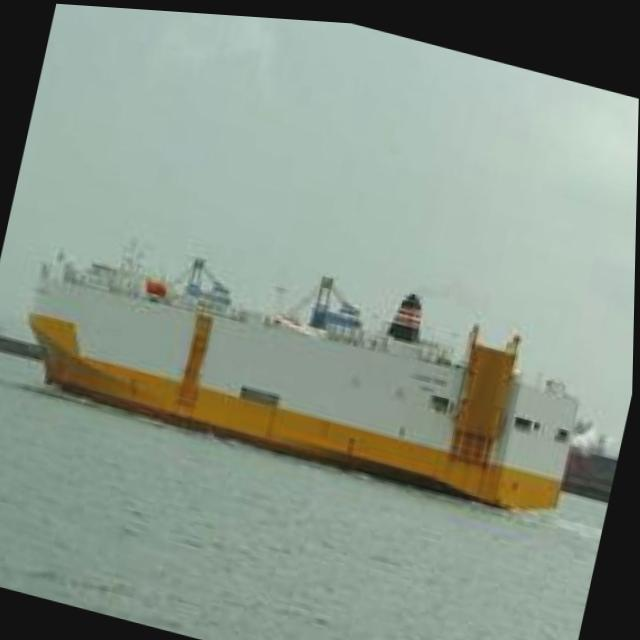ship2: (27, 254, 583, 508)
